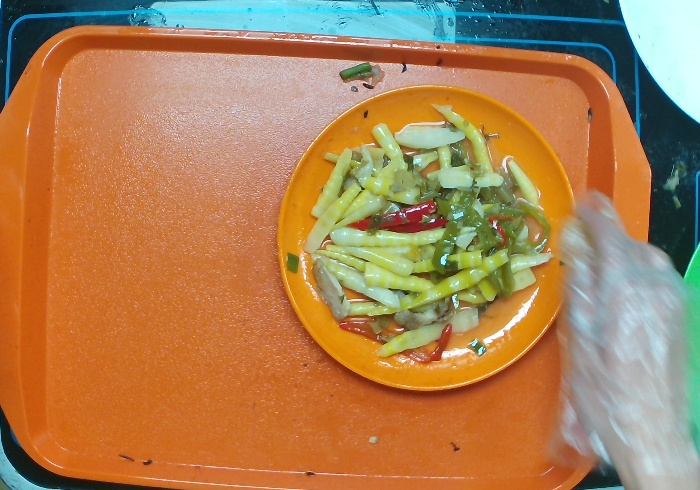HZYJPL-Ju_Huang_Yuan_Pan: (267, 77, 592, 393)
